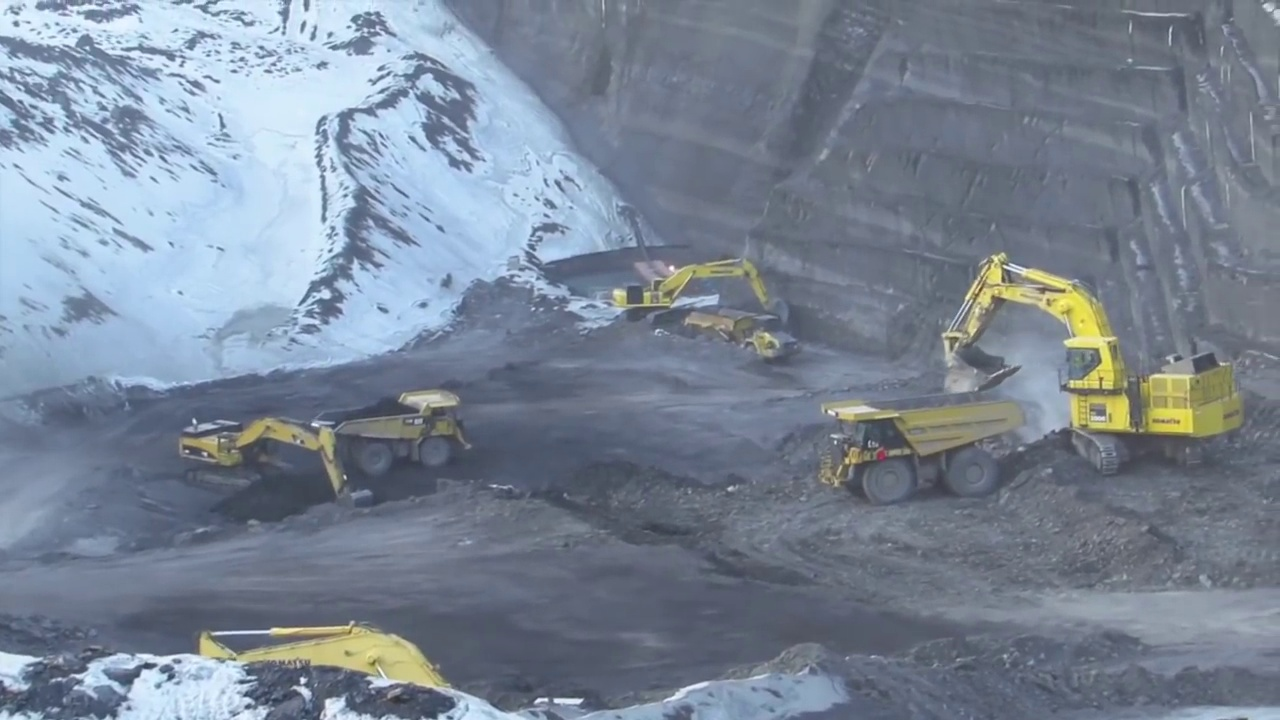dumper: (818, 392, 1029, 503), (312, 385, 474, 470)
excavator: (941, 247, 1245, 475), (175, 416, 376, 517), (608, 257, 795, 328)
